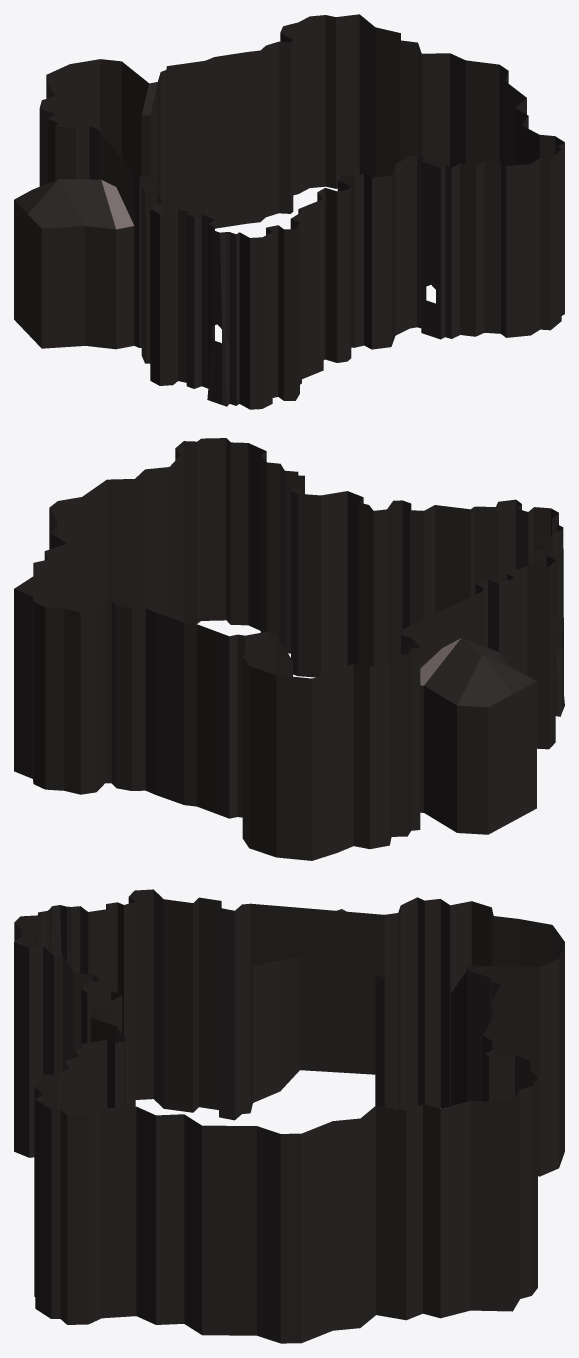
File: cliffsB.gltf
3 views of the same model, one above another, from view 1: azimuth 30°, elevation 25°; view 2: azimuth 150°, elevation 25°; view 3: azimuth 270°, elevation 25° (orthographic). The views are drawn at different scales.
Parts seen in each view (by area): view 1: cliffs; view 2: cliffs; view 3: cliffs.
Part boxes in pixels (bbox=[...]): cliffs: bbox=[14, 14, 564, 409]; cliffs: bbox=[14, 438, 564, 860]; cliffs: bbox=[14, 889, 564, 1343].
Size of what is drawn, in the model's own units: 140 by 50 by 119.
1 material, 1 textured.
